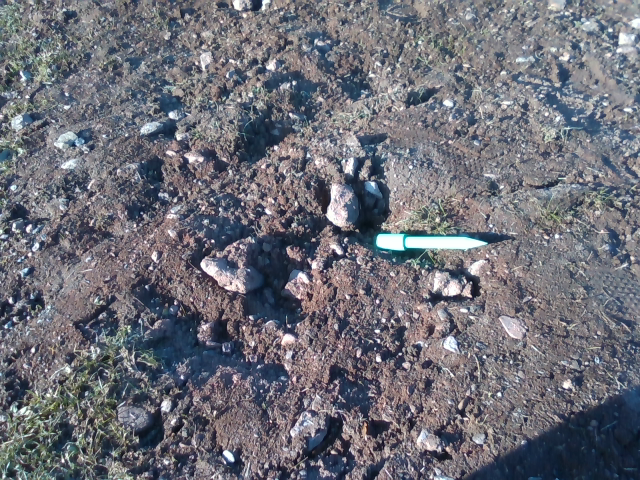Probe: (372, 227, 501, 257)
